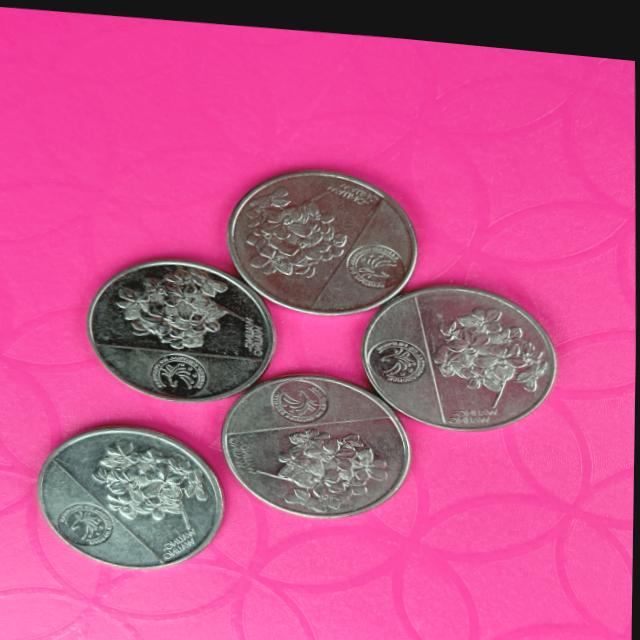1_New_Back: (241, 172, 355, 286), (420, 288, 540, 393), (103, 424, 207, 533), (117, 256, 241, 347), (284, 404, 396, 497)
